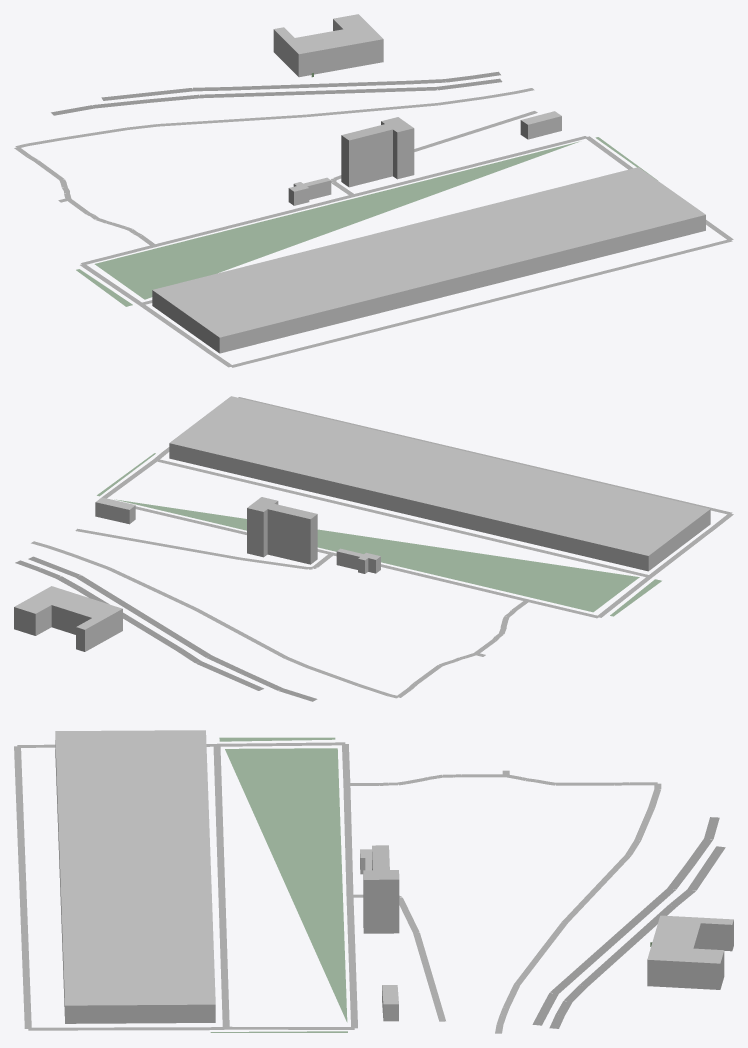
3 views of the same model, one above another, from view 1: azimuth 30°, elevation 25°; view 2: azimuth 150°, elevation 25°; view 3: azimuth 270°, elevation 25° (orthographic). The views are drawn at different scales.
Bounding box in the file's own units: 501 × 42.93 × 515.
